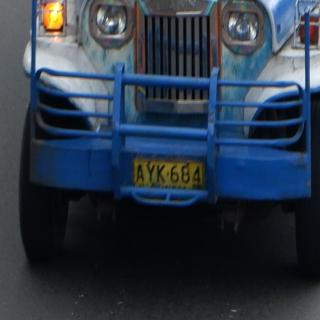license: (134, 159, 205, 190)
